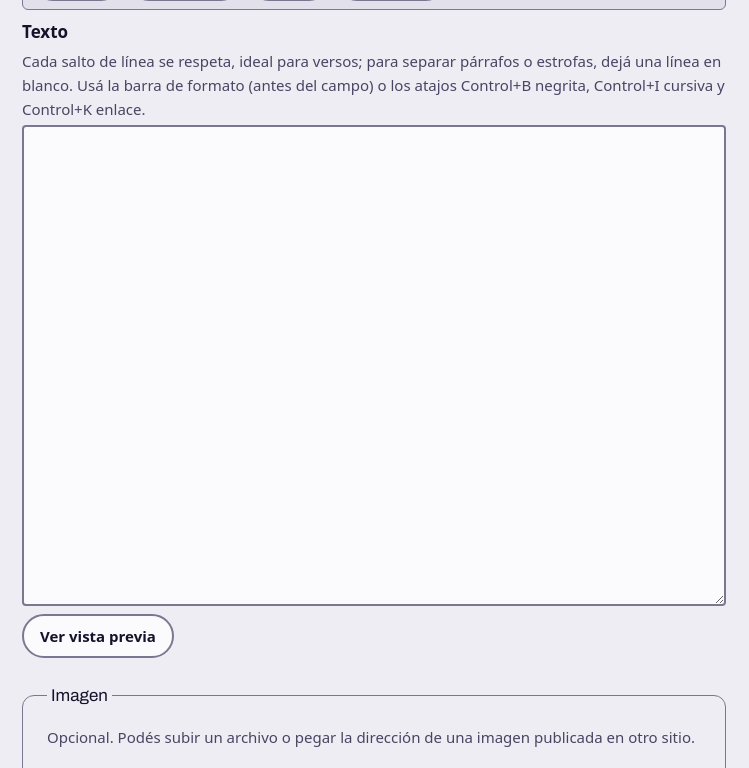
it: Barra de formato en el formulario › la vista previa muestra el HTML del servidor y se anuncia
(page scrolled)
Type "**hola**" into the text box labelled "Texto". click: (374, 366)
box: top-left (22, 125), bottom-right (726, 606)
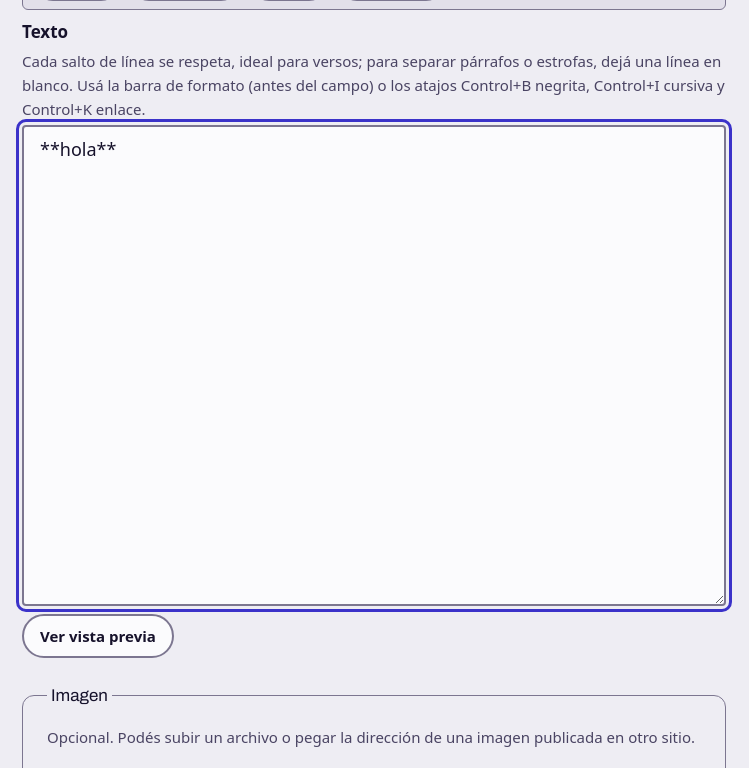
Click the button "Ver vista previa". click: (98, 636)
box: top-left (22, 614), bottom-right (174, 658)
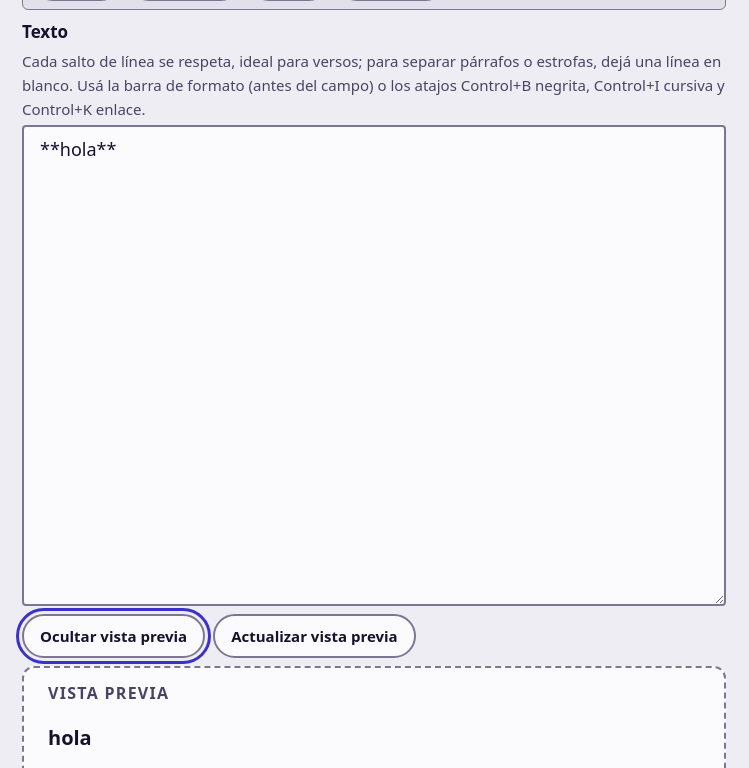
Now the button "Ocultar vista previa" is expanded, box top-left (22, 614), bottom-right (205, 658)
